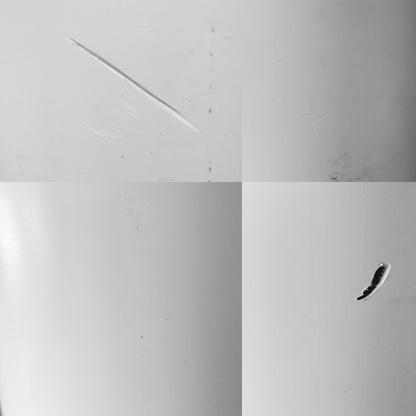kongdong: (358, 261, 390, 304)
sunshang: (63, 29, 197, 135)
